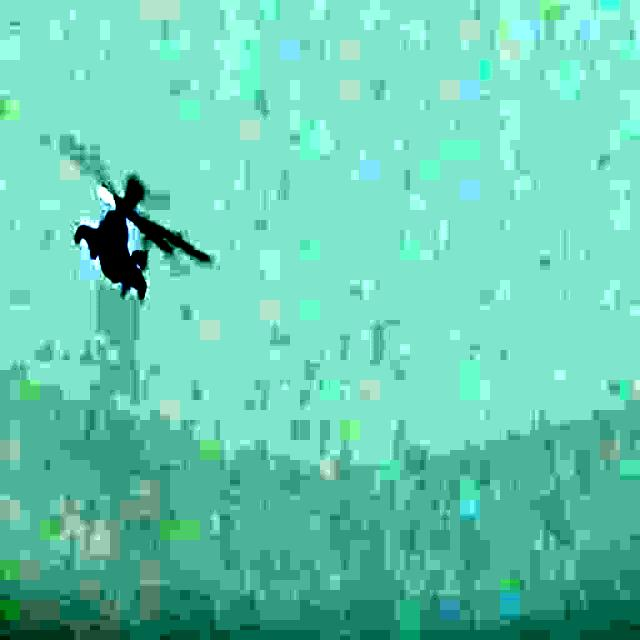drone: (71, 165, 211, 298)
